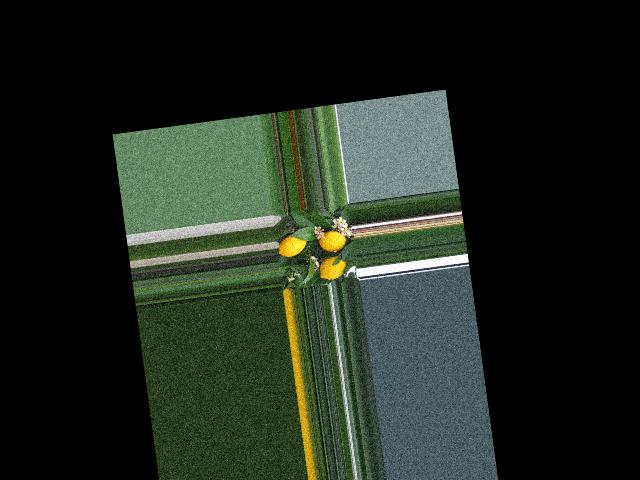lemon: (277, 228, 311, 259)
